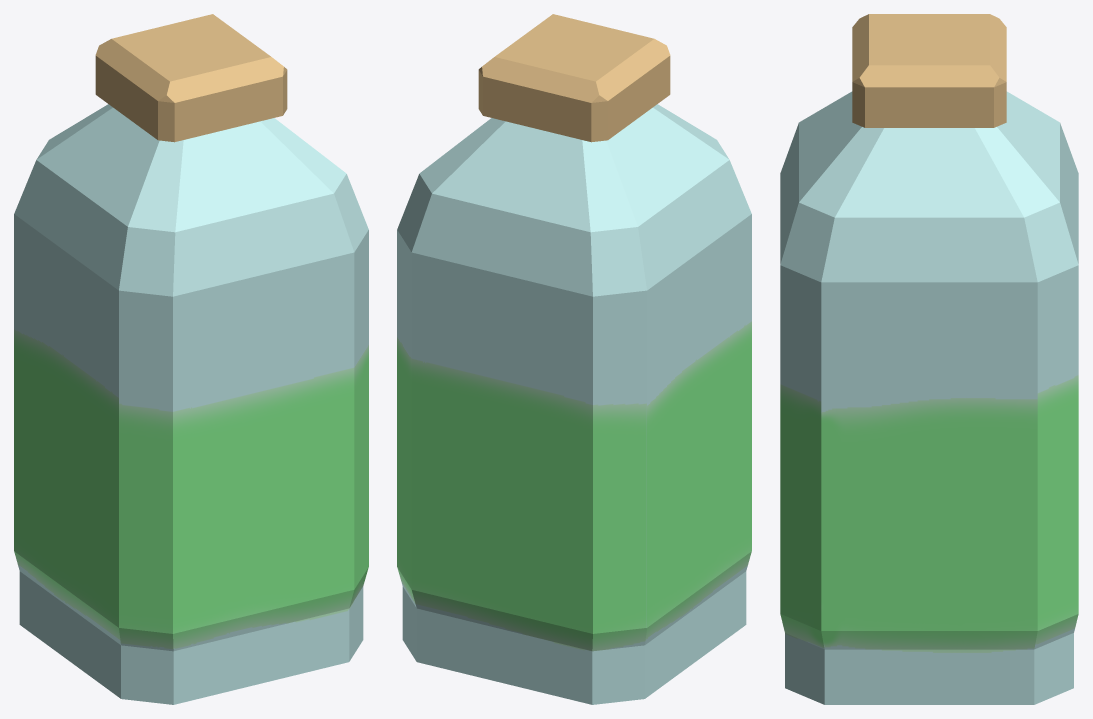
Rendered from PotionGreen.fbx.
3 views of the same model, side by side, from view 1: azimuth 30°, elevation 25°; view 2: azimuth 150°, elevation 25°; view 3: azimuth 270°, elevation 25° (orthographic). The views are drawn at different scales.
Visible parts, largest first — view 1: Bottle, Cap; view 2: Bottle, Cap; view 3: Bottle, Cap.
Part boxes in pixels (x1,y1,x2,y2): Bottle: [14, 104, 368, 704]; Cap: [95, 14, 287, 142]; Bottle: [397, 104, 751, 704]; Cap: [478, 14, 670, 142]; Bottle: [780, 91, 1078, 704]; Cap: [852, 14, 1006, 127].
Size of the model in its own units: 206 by 461 by 206.
Materials: 2 (1 with a texture image).
